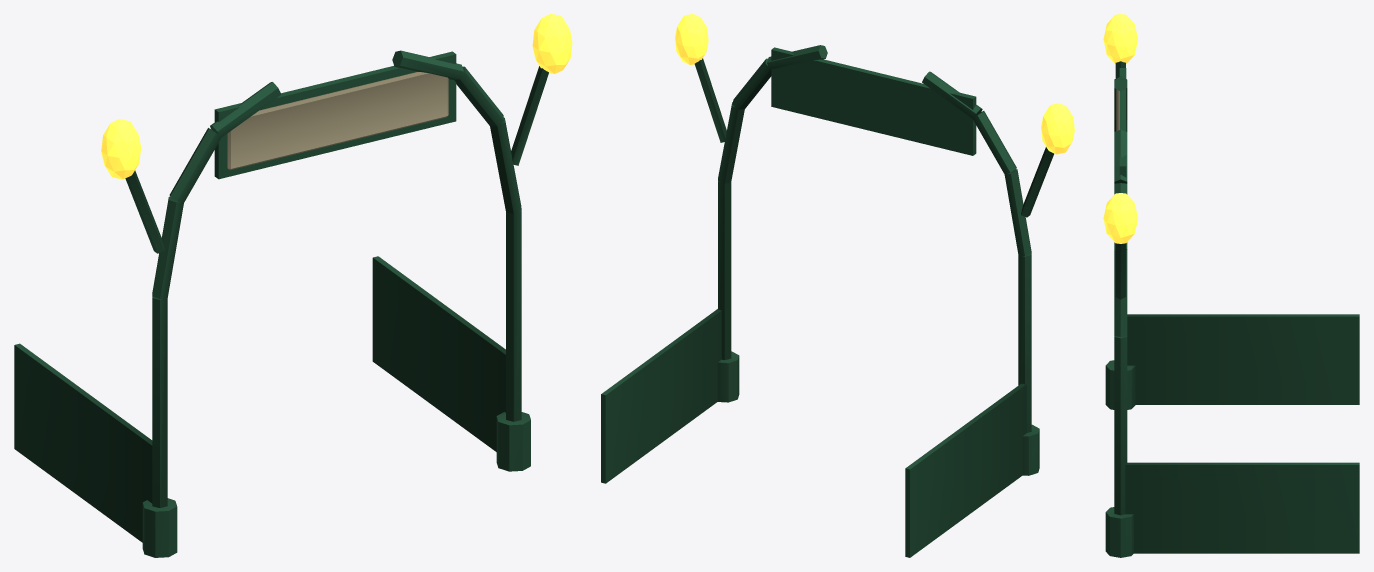
Rendered from pa_metro-TWNFQuzv.glb.
3 views of the same model, side by side, from view 1: azimuth 30°, elevation 25°; view 2: azimuth 150°, elevation 25°; view 3: azimuth 270°, elevation 25° (orthographic). The views are drawn at different scales.
Bounding box in the file's own units: 4.2 × 3.81 × 2.36.
